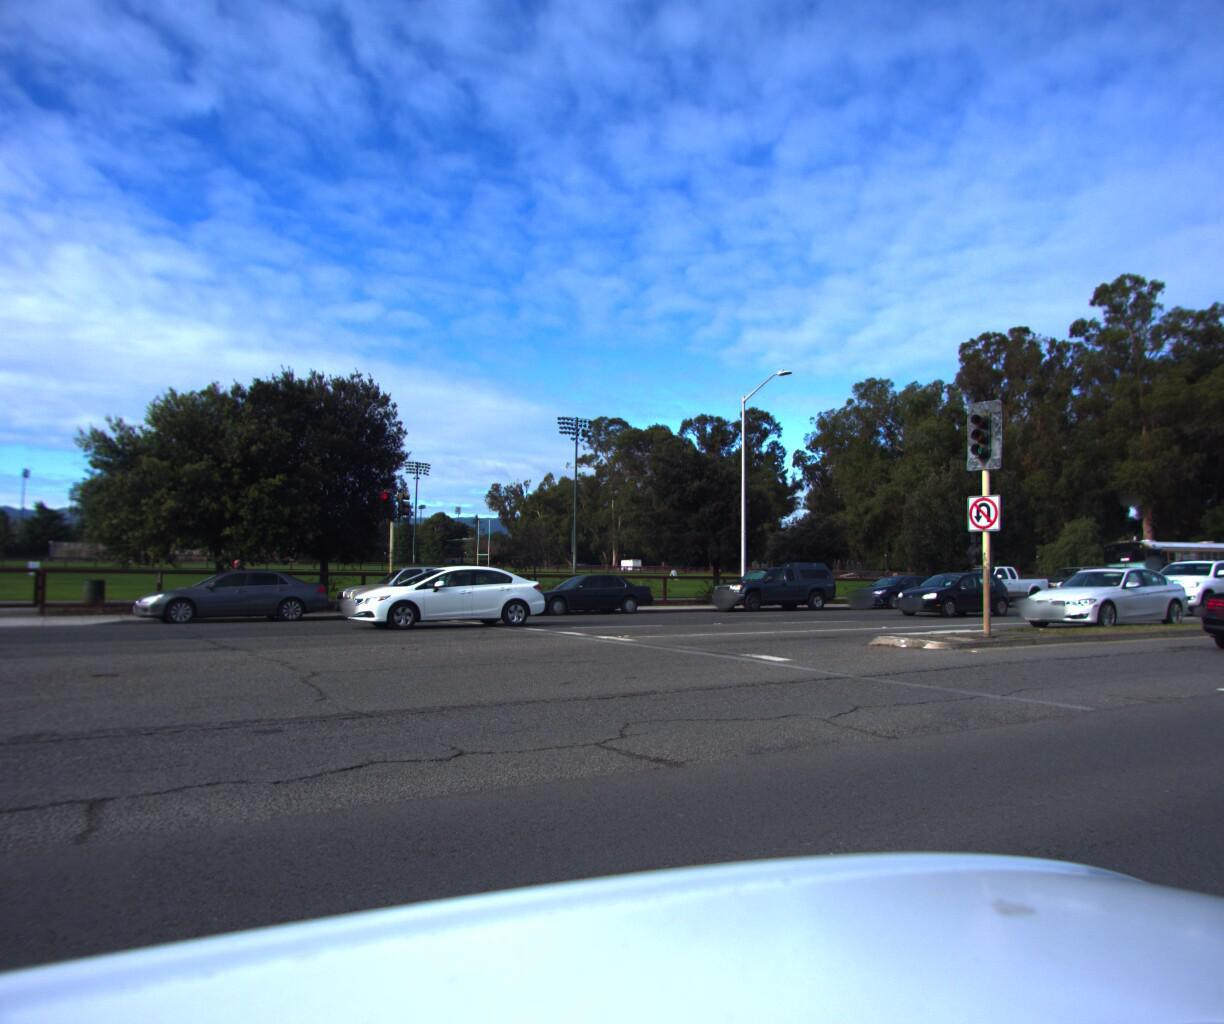bus: (1081, 527, 1224, 605)
car: (336, 554, 553, 631), (113, 561, 340, 627), (1012, 560, 1198, 634), (324, 559, 517, 623), (695, 554, 843, 611), (504, 567, 658, 619), (883, 558, 1019, 615), (925, 556, 1052, 606), (1130, 548, 1224, 613), (834, 566, 956, 608), (1023, 558, 1123, 604), (1178, 565, 1224, 664)
